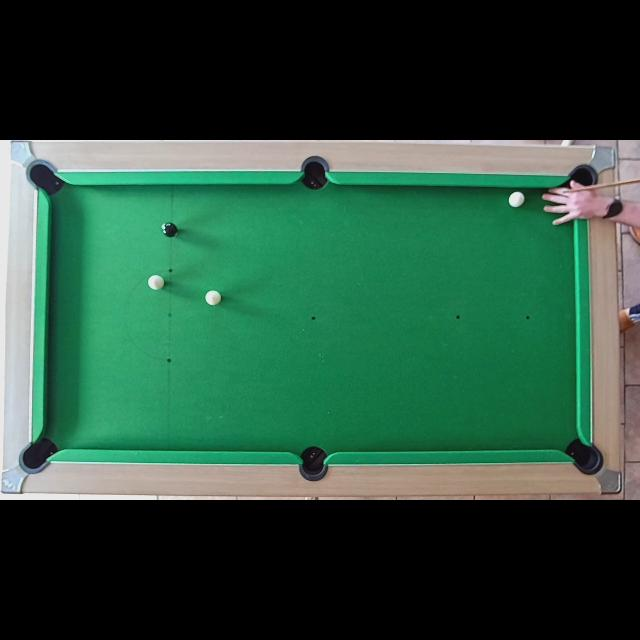Ball: (148, 274, 164, 290), (162, 222, 178, 238), (206, 290, 220, 306), (510, 192, 524, 206)
